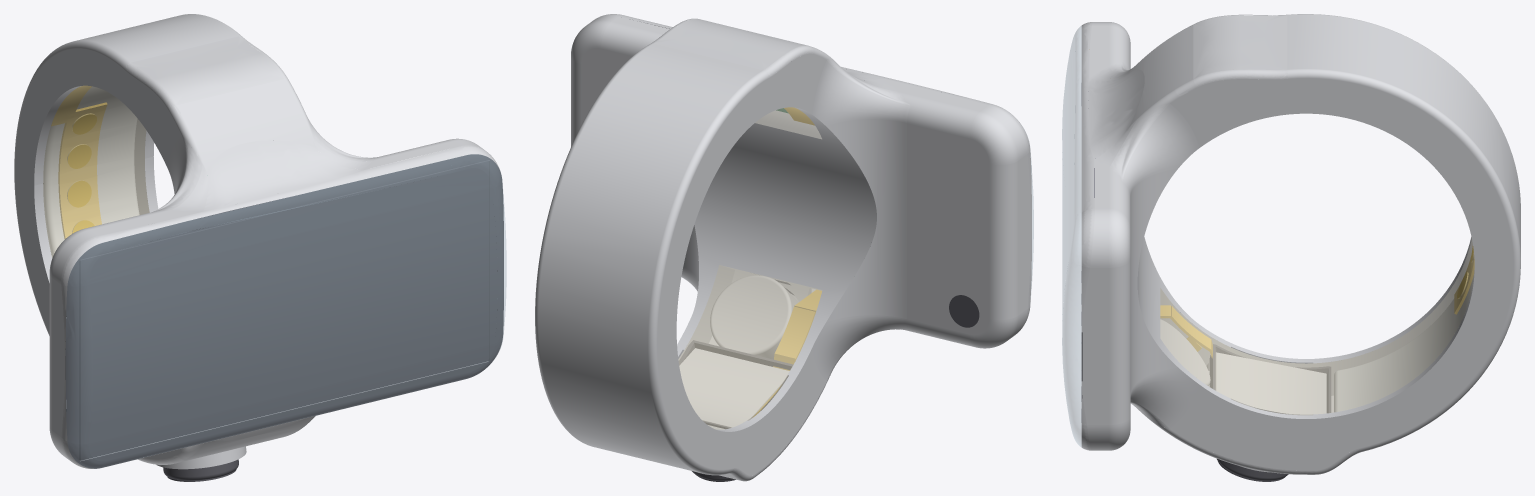
Rendered from thin-inside.glb.
The picture shows the model from 3 angles, left to right: view 1: azimuth 30°, elevation 25°; view 2: azimuth 150°, elevation 25°; view 3: azimuth 270°, elevation 25°; orthographic projection. The views are drawn at different scales.
Visible parts, largest first — view 1: cover_glass__glass, clear_adhesive__polymer, outer_body__metal, glass_seal__polymer, band_liner__resin, cell__cell, band_flex_away__flex, joystick_cap__polymer, joystick_frame__metal, pad_D+__gold; view 2: outer_body__metal, band_liner__resin, band_flex_thumb__metal, vibration_motor__metal, band_flex_thumb__flex, joystick_dam__polymer, mic_membrane_1__polymer; view 3: outer_body__metal, band_liner__resin, cover_glass__glass, cell__cell, band_flex_thumb__metal, vibration_motor__metal, joystick_dam__polymer, band_flex_thumb__flex, joystick_cap__polymer.
Boxes of the visible parts, x1,y1,x2,y2 form: cover_glass__glass: (66, 154, 506, 468); clear_adhesive__polymer: (79, 160, 489, 460); outer_body__metal: (14, 14, 503, 468); glass_seal__polymer: (65, 154, 503, 468); band_liner__resin: (43, 85, 149, 257); cell__cell: (43, 86, 139, 257); band_flex_away__flex: (51, 85, 107, 238); joystick_cap__polymer: (163, 459, 238, 481); joystick_frame__metal: (156, 446, 246, 469); pad_D+__gold: (67, 180, 91, 207); outer_body__metal: (535, 14, 1031, 481); band_liner__resin: (678, 107, 822, 429); band_flex_thumb__metal: (679, 348, 789, 427); vibration_motor__metal: (710, 275, 798, 359); band_flex_thumb__flex: (752, 289, 821, 417); joystick_dam__polymer: (678, 340, 793, 428); mic_membrane_1__polymer: (949, 295, 979, 327); outer_body__metal: (1081, 14, 1520, 474); band_liner__resin: (1160, 239, 1474, 415); cover_glass__glass: (1062, 26, 1081, 446); cell__cell: (1258, 79, 1473, 412); band_flex_thumb__metal: (1216, 352, 1326, 415); vibration_motor__metal: (1160, 319, 1210, 385); joystick_dam__polymer: (1209, 344, 1331, 413); band_flex_thumb__flex: (1160, 305, 1212, 358); joystick_cap__polymer: (1217, 459, 1288, 481).
Bounding box in the file's own units: 29.3 × 26.71 × 25.8.
